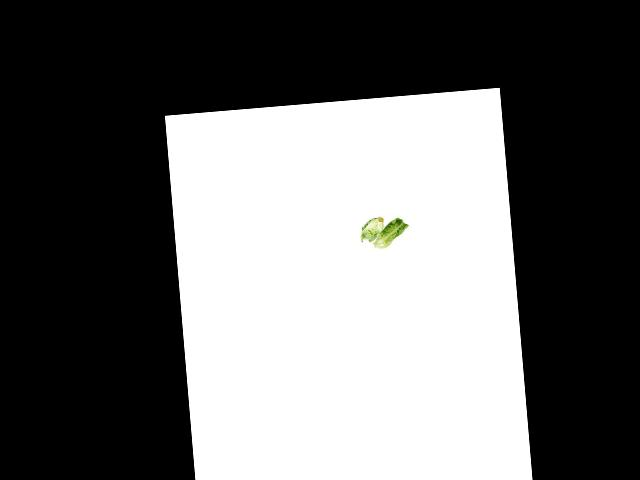lettuce: (357, 209, 408, 251)
